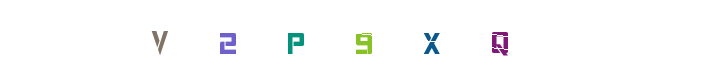2: (280, 0, 360, 80)
9: (316, 0, 396, 80)
P: (315, 0, 395, 80)
Q: (339, 0, 419, 80)
V: (199, 0, 279, 80)
X: (324, 0, 404, 80)
